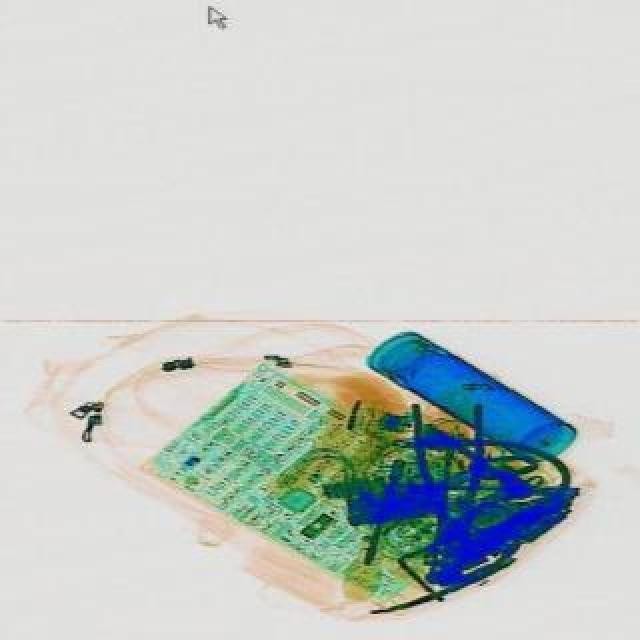wrench: (406, 398, 488, 558)
